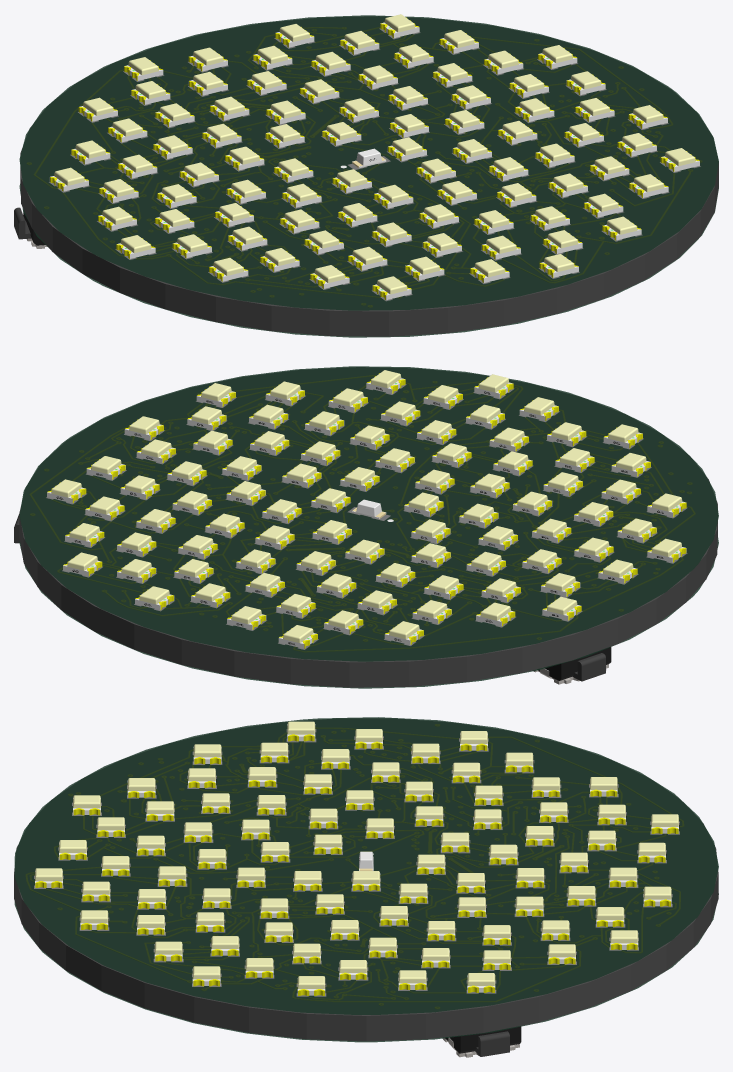
File: board.glb
The picture shows the model from 3 angles, top to bottom: view 1: azimuth 30°, elevation 25°; view 2: azimuth 150°, elevation 25°; view 3: azimuth 270°, elevation 25°; orthographic projection.
Visible parts, largest first — view 1: sunflower_soldermask (×2), sunflower_PCB, LED-ARRAY-SMD_4P-L1.6-W1.5-BR_XL-1615RGBC-RF (×88), sunflower_copper, sunflower_pad, SW-SMD_EVQP7C01P-L3.6-W3.5-H1.4-P3.6-LS4.7; view 2: sunflower_soldermask (×2), sunflower_PCB, LED-ARRAY-SMD_4P-L1.6-W1.5-BR_XL-1615RGBC-RF (×88), sunflower_copper, sunflower_pad, SW-SMD_EVQP7C01P-L3.6-W3.5-H1.4-P3.6-LS4.7; view 3: sunflower_soldermask (×2), sunflower_PCB, LED-ARRAY-SMD_4P-L1.6-W1.5-BR_XL-1615RGBC-RF (×88), sunflower_copper, sunflower_pad, SW-SMD_EVQP7C01P-L3.6-W3.5-H1.4-P3.6-LS4.7.
Part boxes in pixels (x1,y1,x2,y2): sunflower_soldermask (×2): (19,15,718,337); sunflower_PCB: (20,16,718,336); LED-ARRAY-SMD_4P-L1.6-W1.5-BR_XL-1615RGBC-RF (×88): (49,14,699,300); sunflower_copper: (27,27,701,307); sunflower_pad: (49,28,700,301); SW-SMD_EVQP7C01P-L3.6-W3.5-H1.4-P3.6-LS4.7: (14,207,47,248); sunflower_soldermask (×2): (19,366,718,688); sunflower_PCB: (19,367,717,687); LED-ARRAY-SMD_4P-L1.6-W1.5-BR_XL-1615RGBC-RF (×88): (47,370,686,648); sunflower_copper: (30,375,694,651); sunflower_pad: (46,384,687,649); SW-SMD_EVQP7C01P-L3.6-W3.5-H1.4-P3.6-LS4.7: (533,647,611,684); sunflower_soldermask (×2): (14,717,718,1042); sunflower_PCB: (14,719,718,1041); LED-ARRAY-SMD_4P-L1.6-W1.5-BR_XL-1615RGBC-RF (×88): (35,721,679,995); sunflower_copper: (26,725,683,1008); sunflower_pad: (34,729,679,996); SW-SMD_EVQP7C01P-L3.6-W3.5-H1.4-P3.6-LS4.7: (443,1026,521,1057).
Bounding box in the file's own units: 0.038 × 0.00363 × 0.038.
